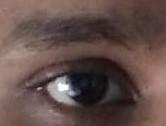open: (9, 53, 163, 126)
